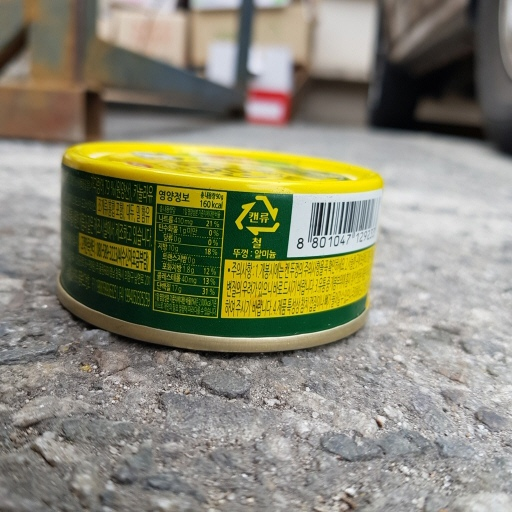Metal_1: (50, 142, 385, 352)
